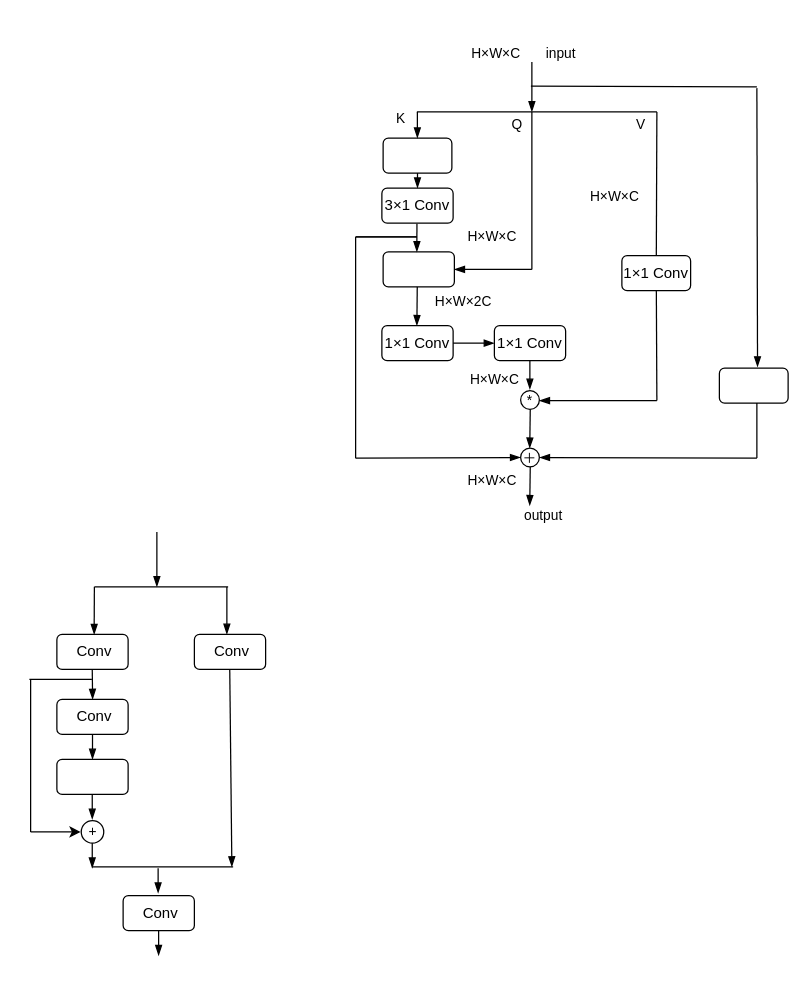
The diagram is 810 pixels wide and 988 high, and some of its shapes have lost their labels. The shapes that lost their labels are listed below. From the top down, each one's centre as x and y in pixels, then its label:
At (417,155): "1×3 Conv".
At (418,269): "Concat".
At (753,385): "DWConv".
At (92,776): "C-Cot block".
